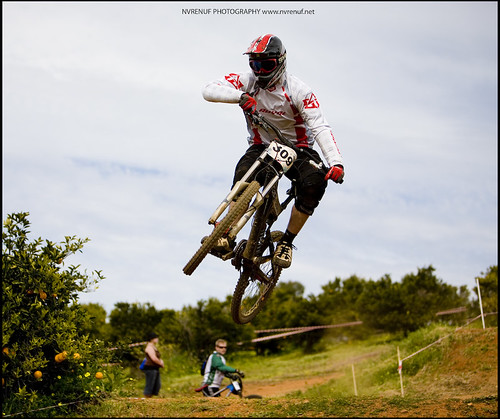helmet: (246, 27, 294, 87)
